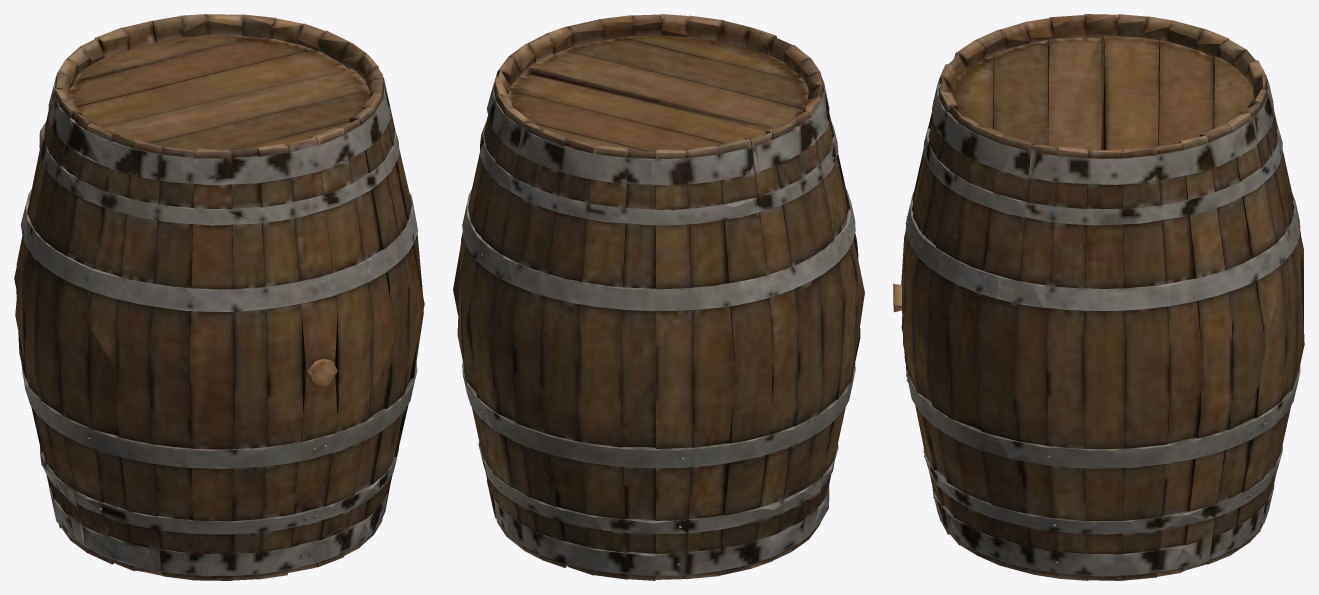
File: keg.glb
3 views of the same model, side by side, from view 1: azimuth 30°, elevation 25°; view 2: azimuth 150°, elevation 25°; view 3: azimuth 270°, elevation 25° (orthographic).
Visible parts, largest first — view 1: keg; view 2: keg; view 3: keg.
Boxes of the visible parts, bbox=[...] form: keg: bbox=[14, 14, 424, 580]; keg: bbox=[453, 14, 864, 580]; keg: bbox=[893, 14, 1304, 580].
Size of the model in its own units: 0.3826 by 0.45 by 0.3899.
Materials: 1 (1 with a texture image).
